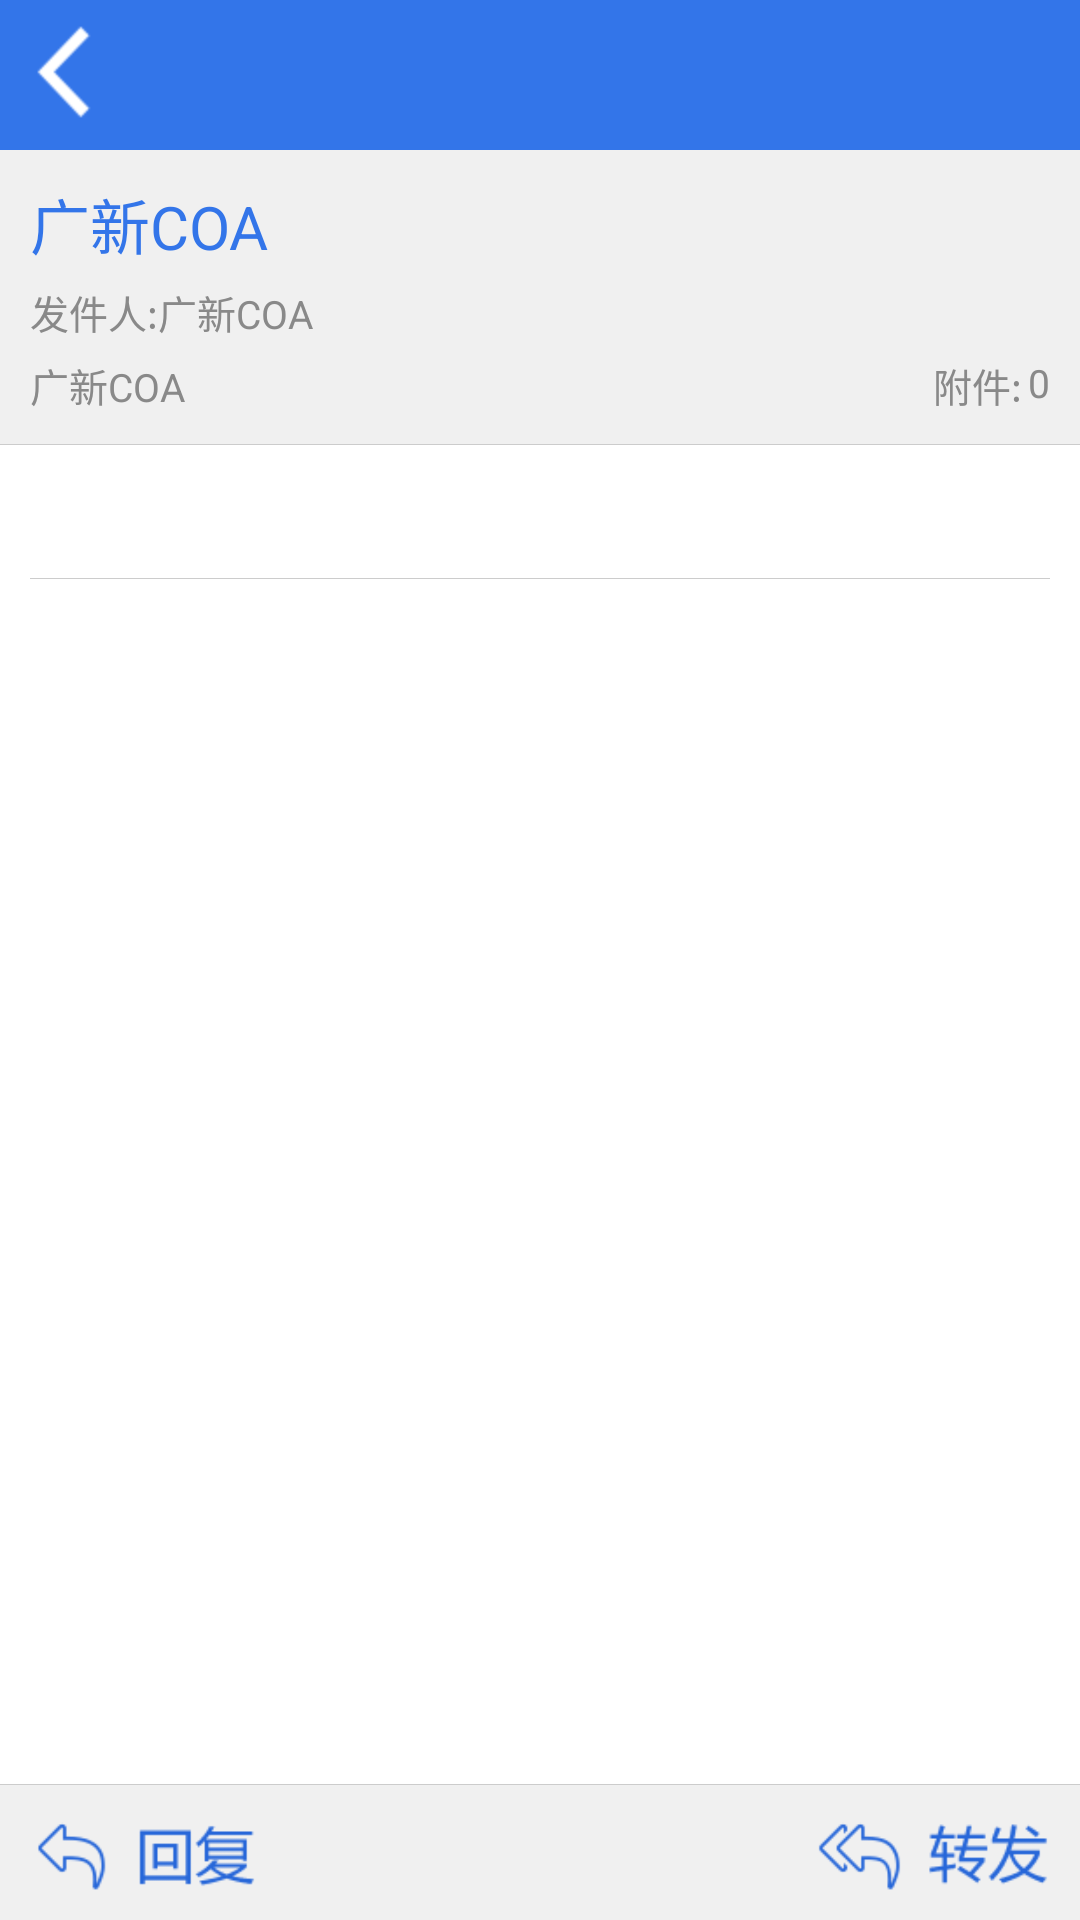

Screen size 1080×1920. Icon name, then its box in pixels as (x1, y1, x2, y2):
back: (37, 26, 90, 118)
